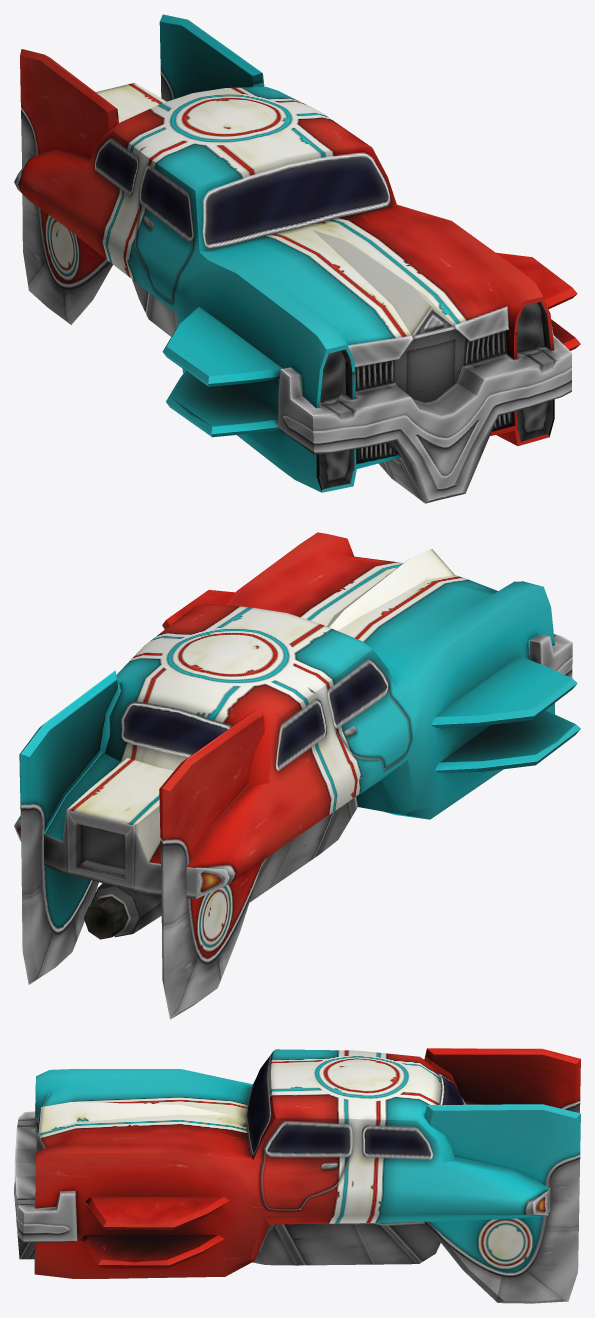
Rendered from JpCadillac_low.FBX.
3 views of the same model, one above another, from view 1: azimuth 30°, elevation 25°; view 2: azimuth 150°, elevation 25°; view 3: azimuth 270°, elevation 25° (orthographic). The views are drawn at different scales.
Visible parts, largest first — view 1: JpCadillac; view 2: JpCadillac; view 3: JpCadillac.
Part boxes in pixels (bbox=[...]): JpCadillac: bbox=[14, 14, 580, 503]; JpCadillac: bbox=[14, 532, 580, 1019]; JpCadillac: bbox=[14, 1048, 580, 1303].
Size of the model in its own units: 1.96 by 1.3 by 3.26.
